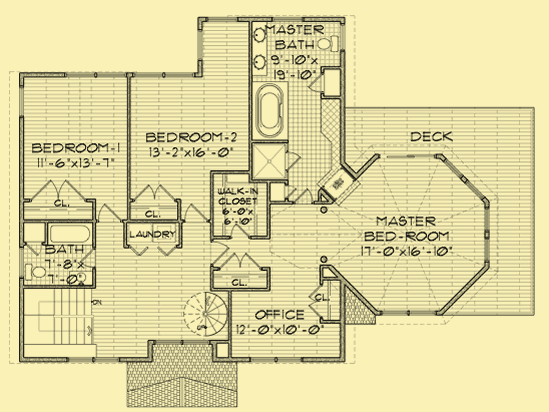door: (30, 177, 86, 204), (220, 249, 261, 274), (131, 181, 174, 204), (306, 280, 328, 320), (180, 200, 212, 222), (95, 200, 123, 224), (211, 236, 230, 267), (285, 146, 302, 174), (294, 187, 316, 204), (306, 74, 325, 92), (282, 181, 298, 197)
large sink: (315, 34, 340, 56), (22, 260, 46, 282)
small sink: (252, 20, 270, 77)
stairs: (20, 284, 104, 352), (179, 291, 230, 340)
tub: (253, 79, 289, 142), (48, 221, 94, 245)
windows: (248, 352, 305, 368), (132, 69, 199, 82), (63, 354, 125, 366), (379, 306, 440, 318), (63, 69, 126, 80), (15, 83, 27, 120), (195, 22, 205, 65), (202, 14, 243, 24), (17, 241, 25, 282)
